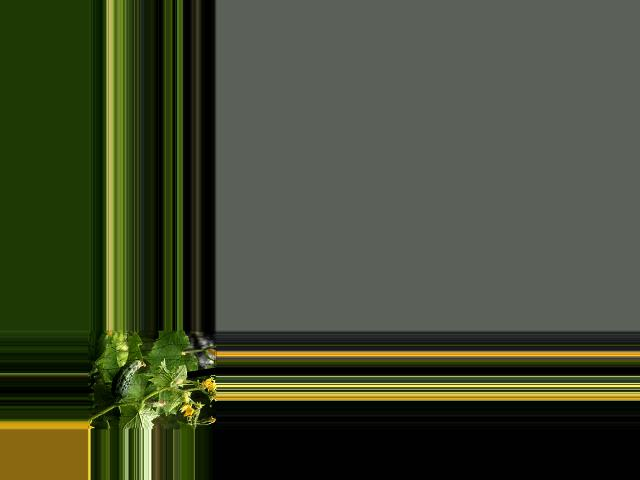cucumber: (111, 359, 146, 400)
